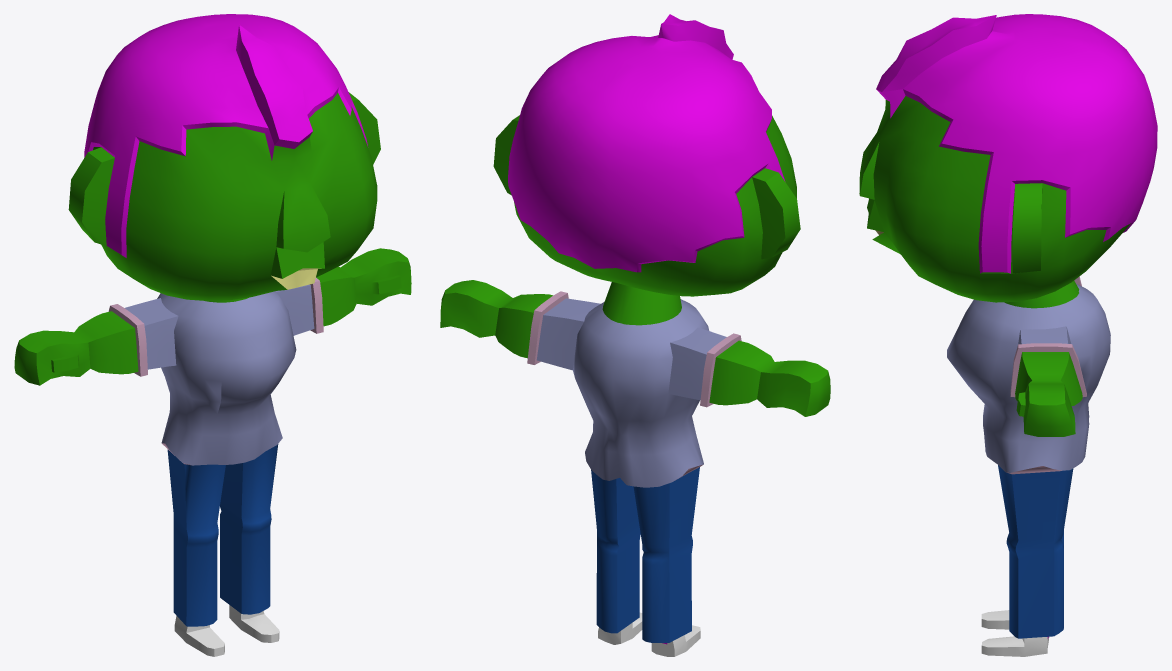
File: PERSON_BONSE_UNITY.fbx
The picture shows the model from 3 angles, left to right: view 1: azimuth 30°, elevation 25°; view 2: azimuth 150°, elevation 25°; view 3: azimuth 270°, elevation 25°; orthographic projection. The views are drawn at different scales.
Parts seen in each view (by area): view 1: Sphere001; view 2: Sphere001; view 3: Sphere001.
Part boxes in pixels (x1,y1,x2,y2): Sphere001: (14, 14, 411, 656); Sphere001: (440, 14, 830, 656); Sphere001: (859, 14, 1157, 656).
Size of the model in its own units: 3999 by 6173 by 2669.
